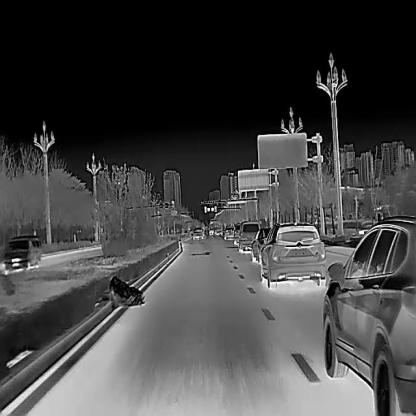car: (322, 214, 415, 415), (259, 221, 326, 288), (3, 235, 40, 271), (251, 226, 272, 262), (238, 221, 260, 252), (233, 223, 241, 243), (224, 225, 235, 239), (192, 227, 204, 239), (214, 226, 222, 235), (209, 227, 213, 233)
